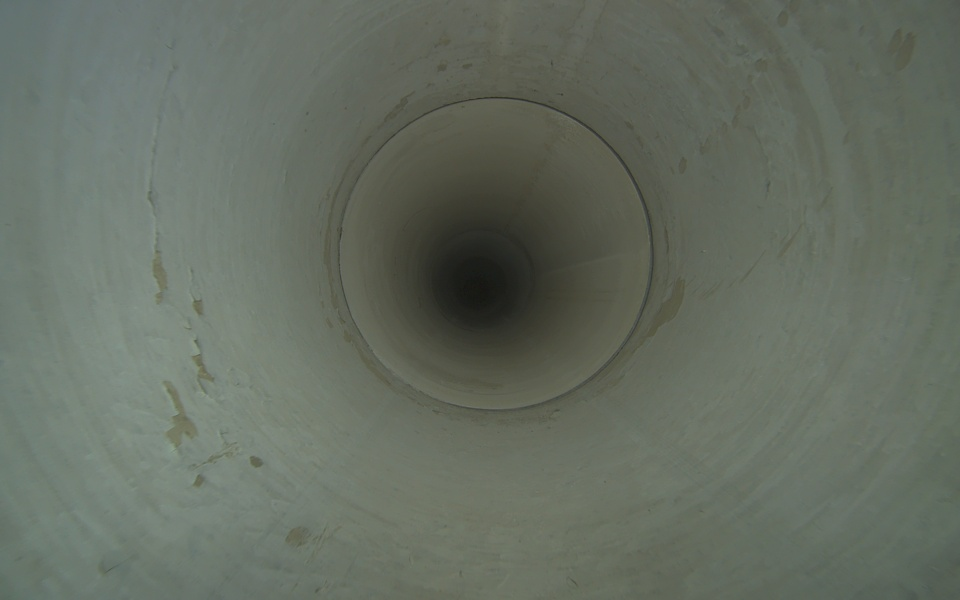circle1: (336, 93, 657, 417)
circle2: (466, 277, 495, 305)
